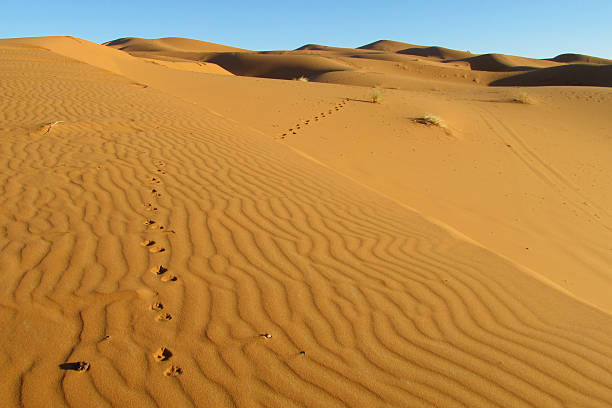animal_foot_print: (269, 87, 363, 146), (153, 347, 172, 361), (164, 365, 182, 376), (150, 265, 167, 274), (156, 313, 171, 321), (151, 301, 163, 311), (160, 274, 177, 281), (151, 245, 164, 252), (142, 240, 154, 245), (145, 203, 155, 209), (150, 177, 160, 182), (145, 219, 154, 224), (151, 189, 157, 196)
